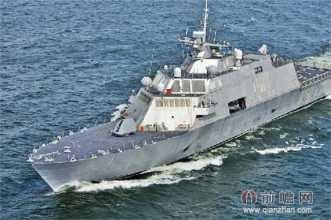warship: (29, 9, 331, 196)
